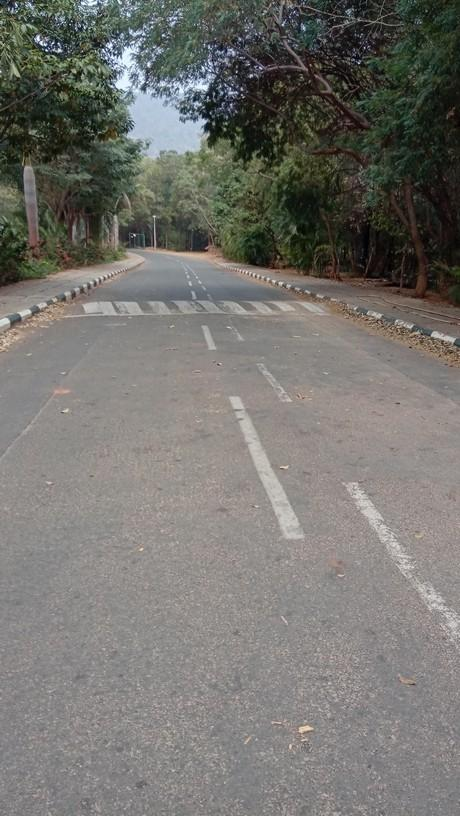speed-bump: (68, 299, 333, 317)
